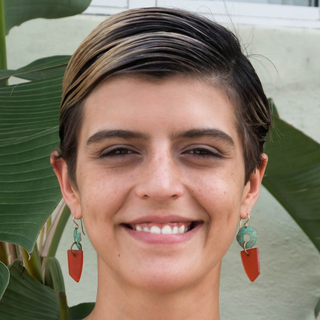eye: (94, 141, 145, 165), (176, 141, 226, 165)
